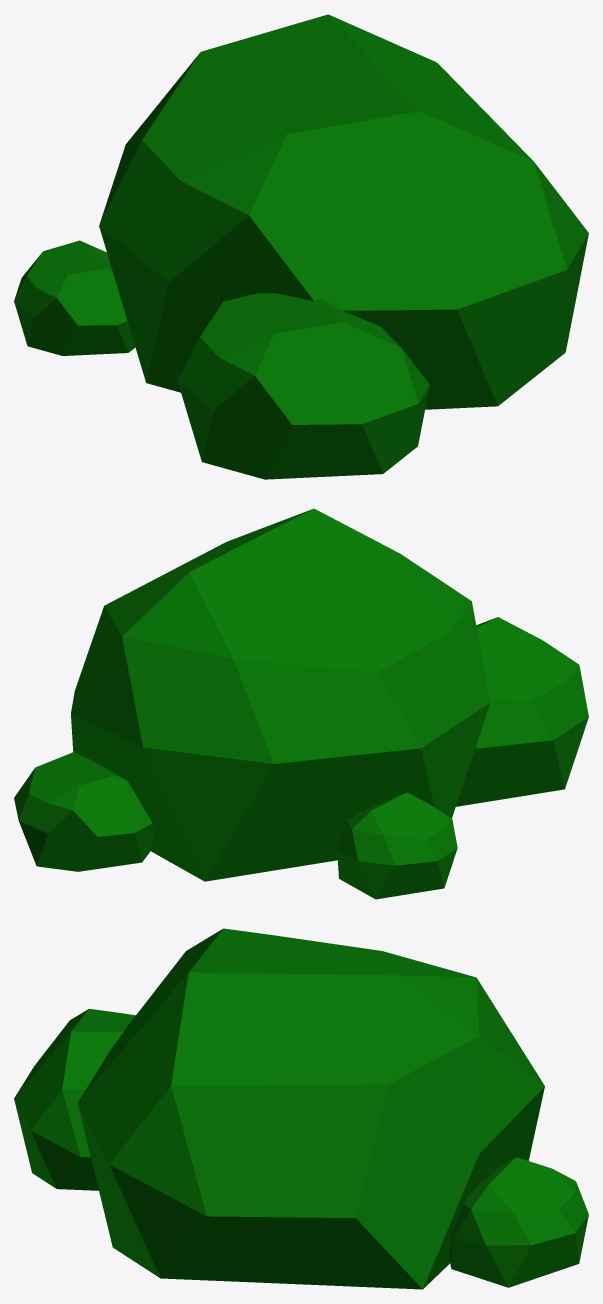
The model's file is Bushes.fbx.
3 renders of one model, top to bottom at view 1: azimuth 30°, elevation 25°; view 2: azimuth 150°, elevation 25°; view 3: azimuth 270°, elevation 25°, orthographic. The views are drawn at different scales.
Parts seen in each view (by area): view 1: Icosphere; view 2: Icosphere; view 3: Icosphere.
Part boxes in pixels (x1,y1,x2,y2): Icosphere: (14, 14, 588, 479); Icosphere: (14, 508, 588, 899); Icosphere: (14, 928, 588, 1289).
Size of the model in its own units: 220 by 132 by 259.
